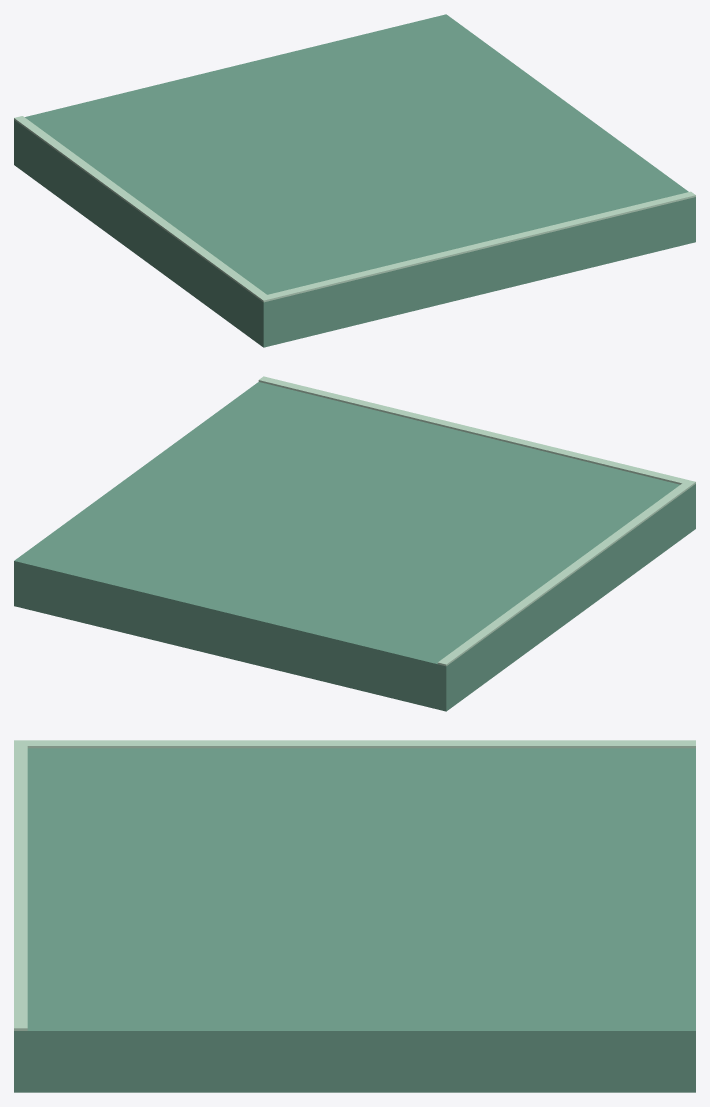
File: terrain_mat.glb
The picture shows the model from 3 angles, top to bottom: view 1: azimuth 30°, elevation 25°; view 2: azimuth 150°, elevation 25°; view 3: azimuth 270°, elevation 25°; orthographic projection. The views are drawn at different scales.
Visible parts, largest first — view 1: terrain_mat; view 2: terrain_mat; view 3: terrain_mat.
Part boxes in pixels (bbox=[...]): terrain_mat: bbox=[14, 14, 695, 347]; terrain_mat: bbox=[14, 376, 695, 711]; terrain_mat: bbox=[14, 740, 695, 1092].
Bounding box in the file's own units: 1 × 0.104 × 1.
